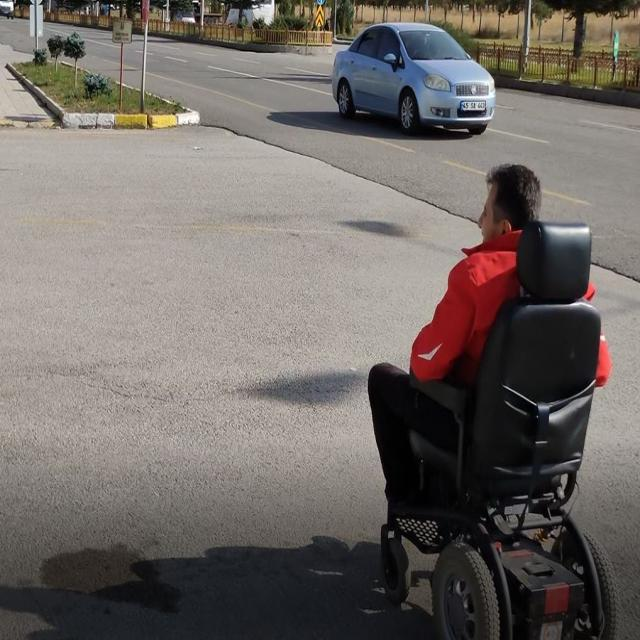wheelchairs: (386, 238, 631, 640)
